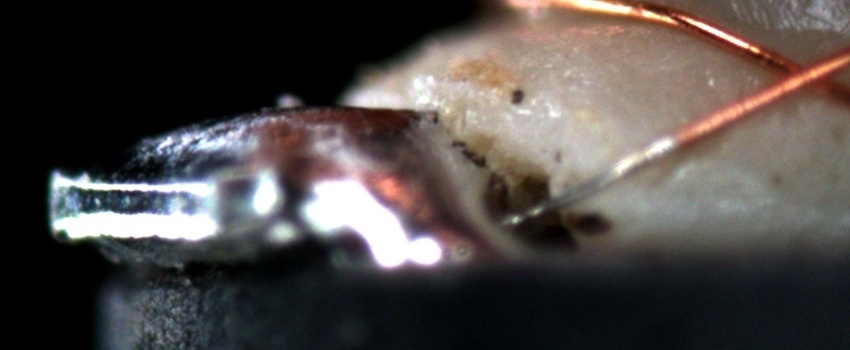CL: (760, 44, 844, 102)
TS: (501, 135, 675, 227)
TTCW: (514, 90, 766, 219)
